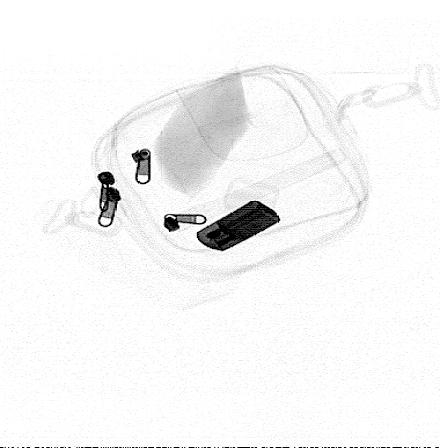Lighter: (196, 200, 281, 251)
